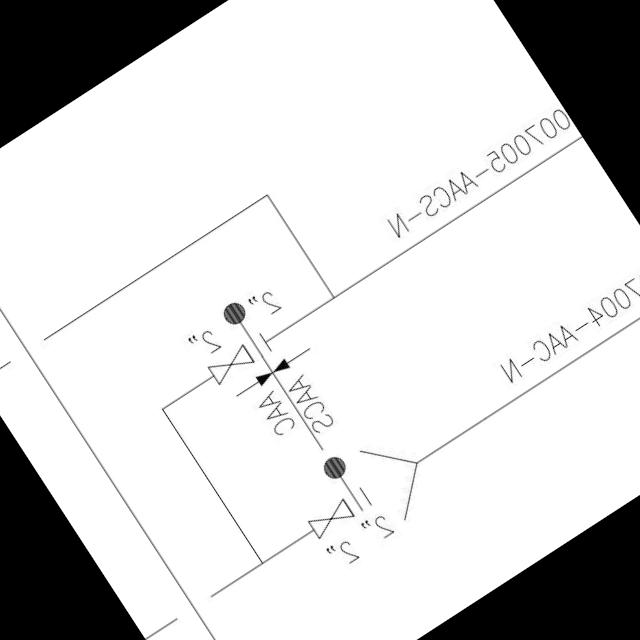GV: (200, 336, 262, 390), (300, 492, 360, 544)
